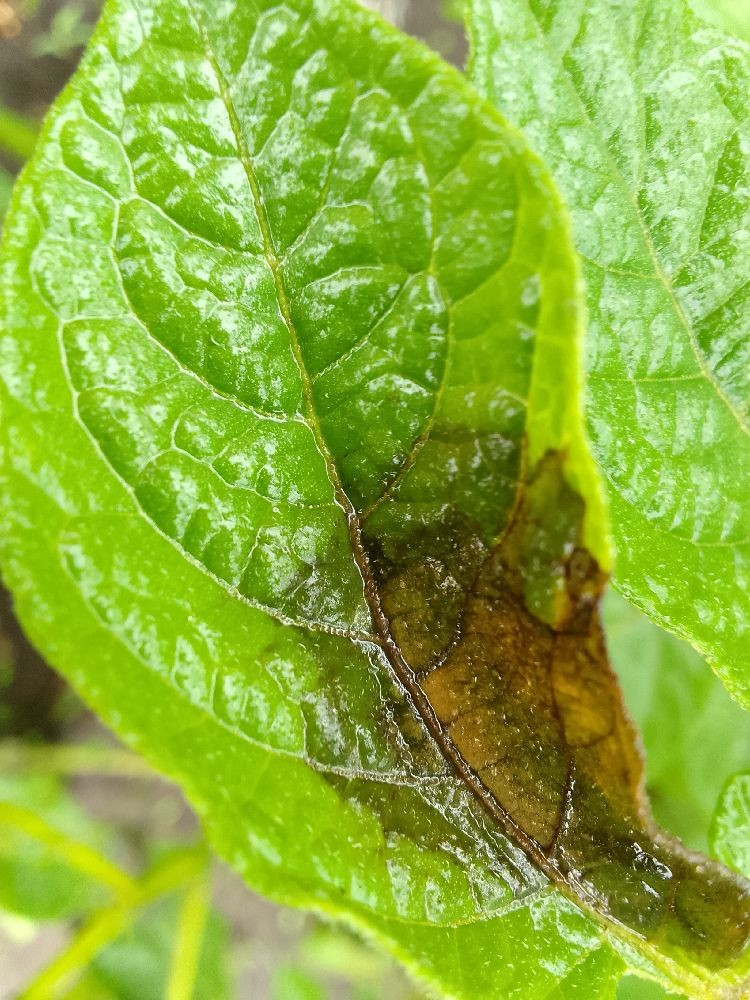late_blight: (331, 433, 749, 999), (0, 561, 124, 768), (56, 754, 211, 862), (0, 0, 99, 131)
